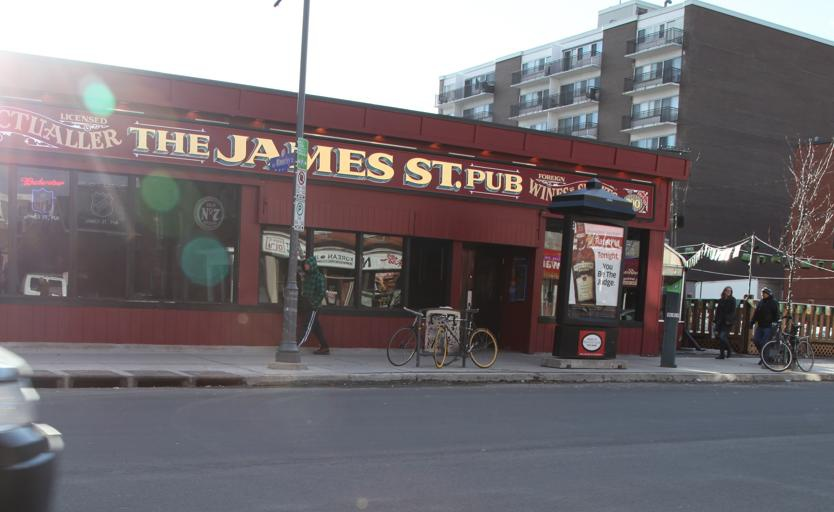non-vehicle: (385, 304, 463, 366), (428, 304, 499, 370), (758, 316, 816, 372)
